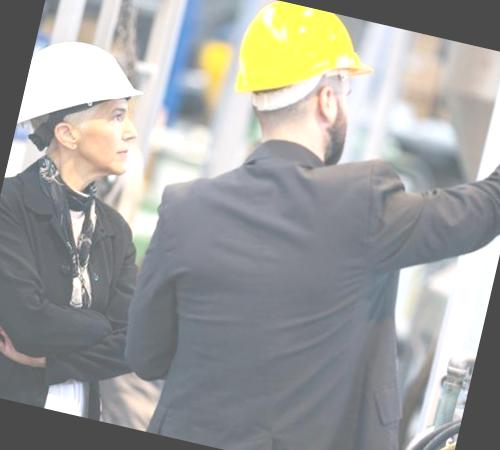helmet: (218, 0, 381, 118), (14, 34, 161, 163)
no_vest: (110, 113, 464, 450), (0, 152, 154, 407)
person: (110, 0, 500, 450), (0, 28, 196, 424)
